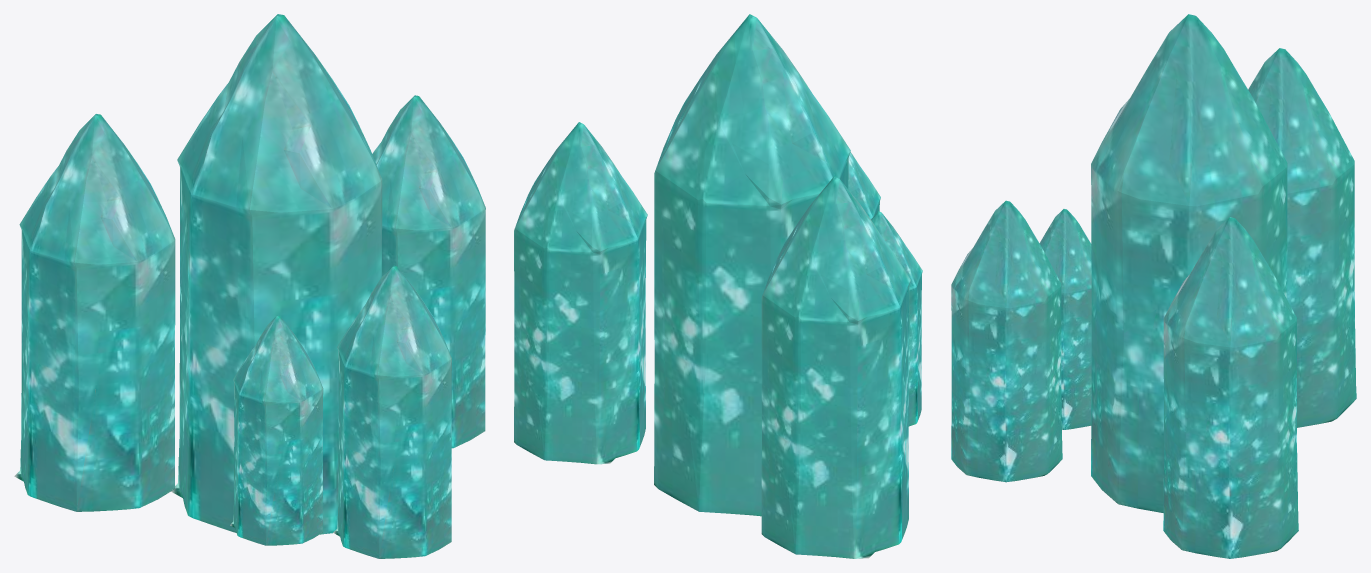
File: scar_crystal_b_lod0.glb
3 renders of one model, left to right at view 1: azimuth 30°, elevation 25°; view 2: azimuth 150°, elevation 25°; view 3: azimuth 270°, elevation 25°, orthographic. The views are drawn at different scales.
Visible parts, largest first — view 1: scar_crystal_b; view 2: scar_crystal_b; view 3: scar_crystal_b.
Part boxes in pixels (x1,y1,x2,y2): scar_crystal_b: (14,14,485,558); scar_crystal_b: (514,14,922,558); scar_crystal_b: (951,14,1356,558).
Size of the model in its own units: 1.35 by 1.47 by 1.17.
1 material, 1 textured.
